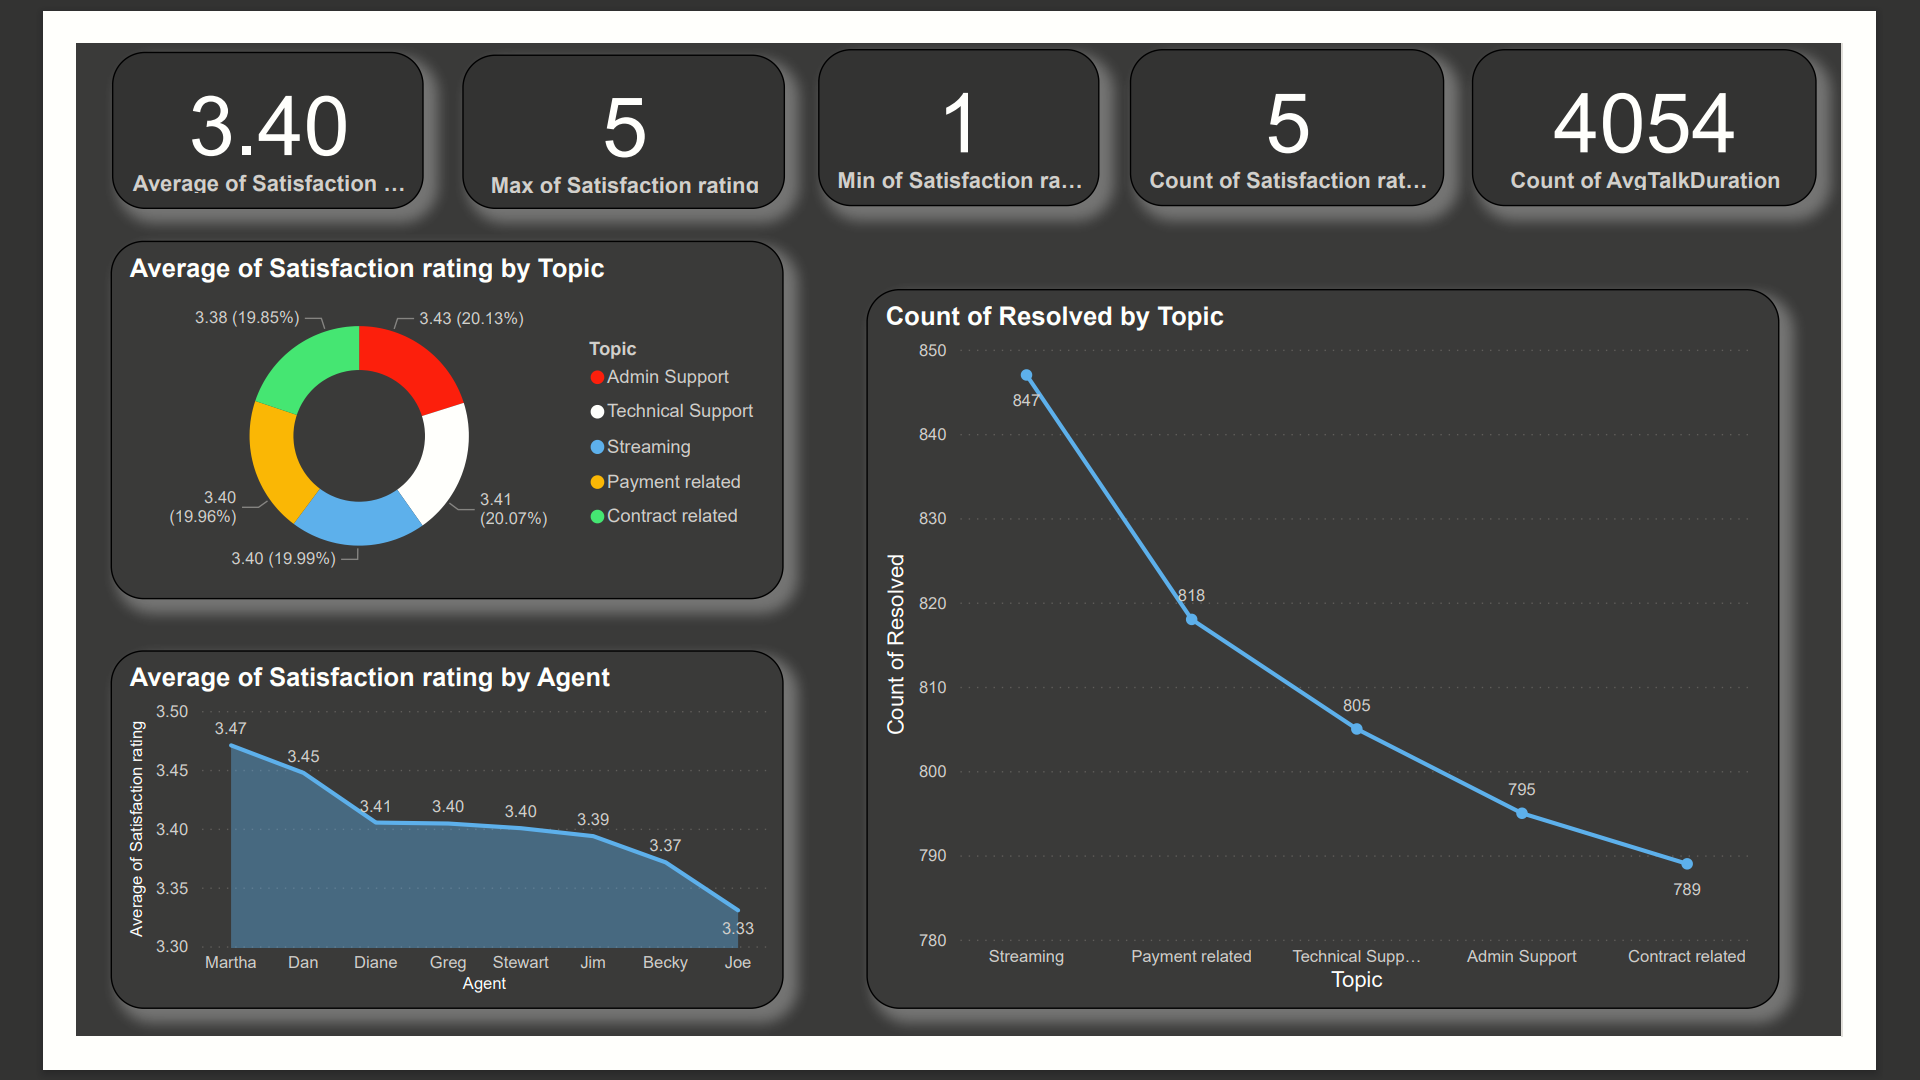

What the dashboard file says about the page in this screenshot:
{"tool":"powerbi","page":{"name":"Page 1","canvas":[1280,720],"ordinal":0},"visuals":[{"type":"card","fields":{"Values":["Sheet1.Satisfaction rating"]},"box":[26,6,226,114],"z":0},{"type":"card","fields":{"Values":["Sheet1.Satisfaction rating"]},"box":[280,8,234,112],"z":1000},{"type":"card","fields":{"Values":["Sheet1.Satisfaction rating"]},"box":[538,4,204,114],"z":2000},{"type":"card","fields":{"Values":["Sheet1.Satisfaction rating"]},"box":[764,4,228,114],"z":3000},{"type":"donutChart","fields":{"Category":["Sheet1.Topic"],"Y":["Sheet1.Satisfaction rating"]},"box":[25,142.5,487.5,260],"z":4000},{"type":"lineChart","fields":{"Category":["Sheet1.Topic"],"Y":["Sheet1.Resolved"]},"box":[572.5,177.5,662.5,522.5],"z":5000},{"type":"areaChart","fields":{"Category":["Sheet1.Agent"],"Y":["Sheet1.Satisfaction rating"]},"box":[25,440,487.5,260],"z":6000},{"type":"card","fields":{"Values":["Sheet1.AvgTalkDuration"]},"box":[1012,4,250,114],"z":7000}]}

Visuals, with their boxes in screenshot pixels (x1, y1, x2, y2), scaled from the page's 1280x720 canvas onto the 1920x1080 screenshot:
card - Sheet1.Satisfaction rating: [x1=39, y1=9, x2=378, y2=180]
card - Sheet1.Satisfaction rating: [x1=420, y1=12, x2=771, y2=180]
card - Sheet1.Satisfaction rating: [x1=807, y1=6, x2=1113, y2=177]
card - Sheet1.Satisfaction rating: [x1=1146, y1=6, x2=1488, y2=177]
donutChart - Sheet1.Topic x Sheet1.Satisfaction rating: [x1=38, y1=214, x2=769, y2=604]
lineChart - Sheet1.Topic x Sheet1.Resolved: [x1=859, y1=266, x2=1852, y2=1050]
areaChart - Sheet1.Agent x Sheet1.Satisfaction rating: [x1=38, y1=660, x2=769, y2=1050]
card - Sheet1.AvgTalkDuration: [x1=1518, y1=6, x2=1893, y2=177]
